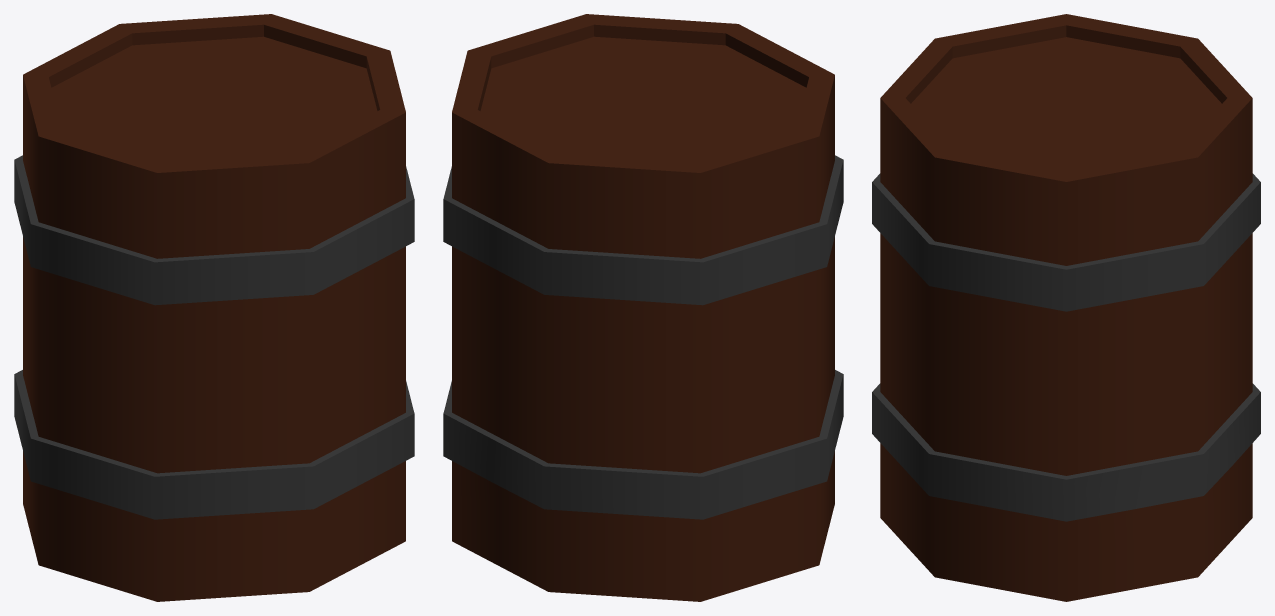
The model's file is barrel.FBX.
The picture shows the model from 3 angles, left to right: view 1: azimuth 30°, elevation 25°; view 2: azimuth 150°, elevation 25°; view 3: azimuth 270°, elevation 25°; orthographic projection. The views are drawn at different scales.
Visible parts, largest first — view 1: Cylinder001; view 2: Cylinder001; view 3: Cylinder001.
Part boxes in pixels (<box>): Cylinder001: <box>14,14,414,601</box>; Cylinder001: <box>443,14,843,601</box>; Cylinder001: <box>872,14,1260,601</box>.
Bounding box in the file's own units: 0.6792 × 0.758 × 0.6359.
